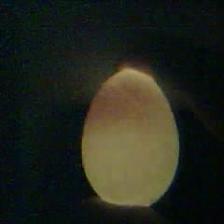infertile: (78, 65, 182, 210)
